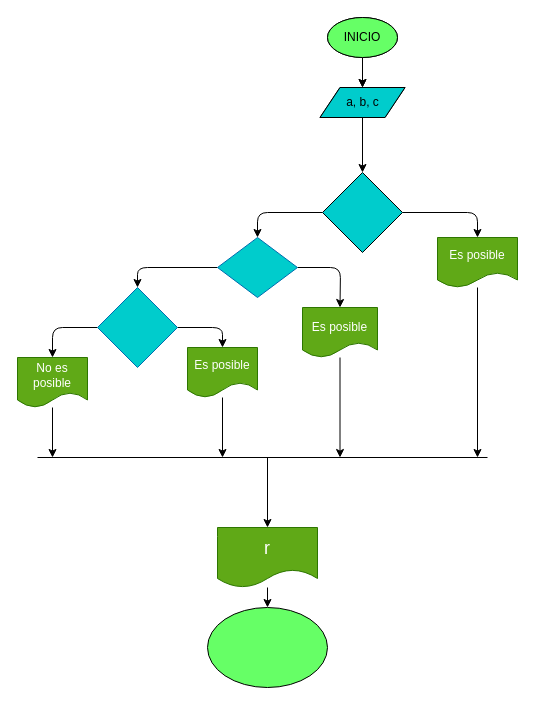
The diagram is 535 pixels wide and 705 high, and some of its shapes have lost their labels. The centre of each missing label's shape, as x and y in pixels:
a+b>c: (362,212)
a+c>b: (257,267)
b+c>a: (137,327)
Fin: (267,647)
